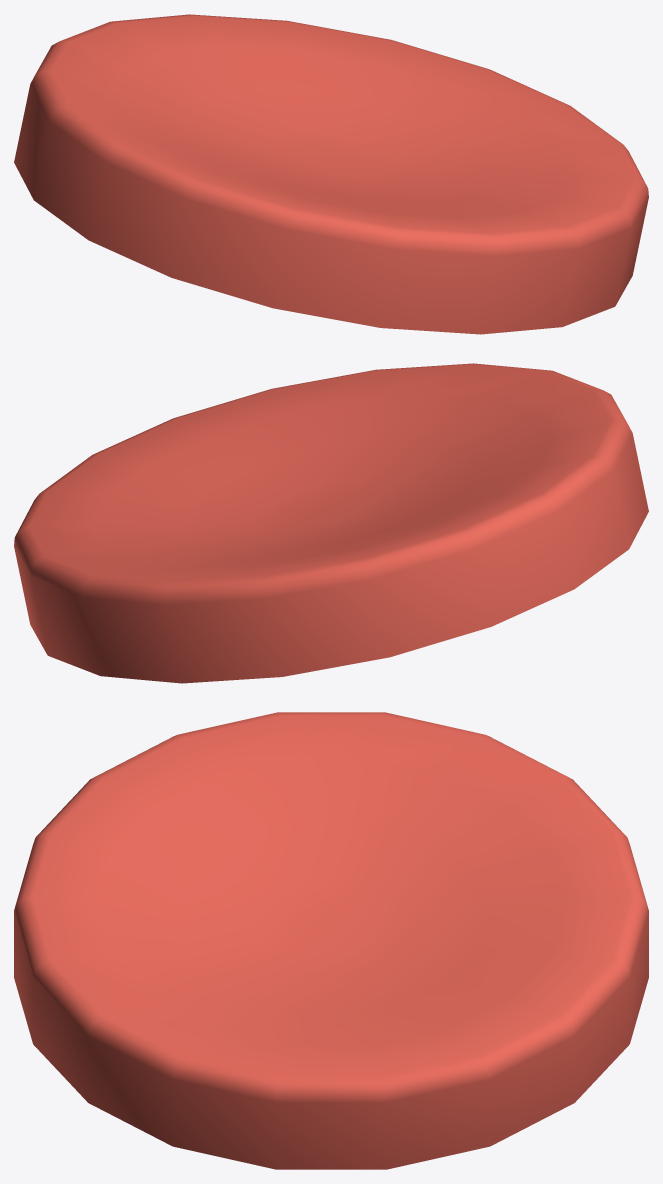
Rendered from arcade_button_b.glb.
3 views of the same model, one above another, from view 1: azimuth 30°, elevation 25°; view 2: azimuth 150°, elevation 25°; view 3: azimuth 270°, elevation 25° (orthographic).
Parts seen in each view (by area): view 1: Acrade_Button_B; view 2: Acrade_Button_B; view 3: Acrade_Button_B.
Boxes of the visible parts, <box> form: Acrade_Button_B: <box>14,14,648,334</box>; Acrade_Button_B: <box>14,363,648,683</box>; Acrade_Button_B: <box>14,712,648,1169</box>.
Size of the model in its own units: 0.4976 by 0.1861 by 0.5027.
